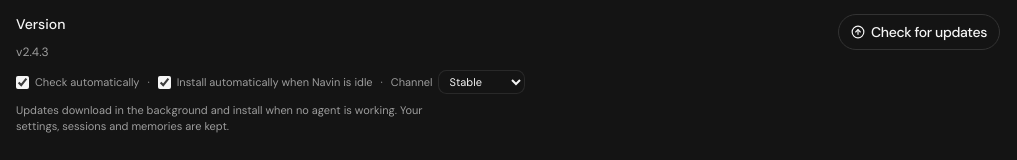
Scenario: VersionCheckRow update preferences › offers the enterprise channel and saves automatic installs
The image size is (1017, 160).
Expected: the text "install when no agent is working" is shown, [16,103,422,133]
Select "Enterprise" in the dropdown with test id "update-channel": (482, 82) [438,70,526,94]
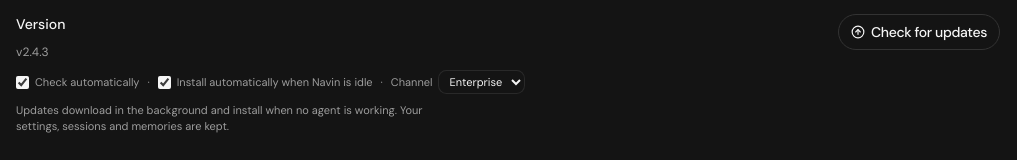
Click the checkbox with test id "update-auto-install": (164, 82) [158,76,171,88]
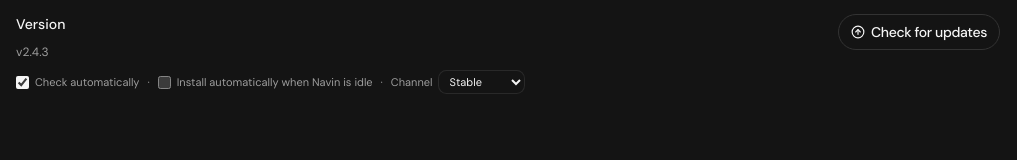
Expected: the checkbox with test id "update-auto-install" is not checked, [158,76,171,88]
Expected: the text "install when no agent is working" is gone
